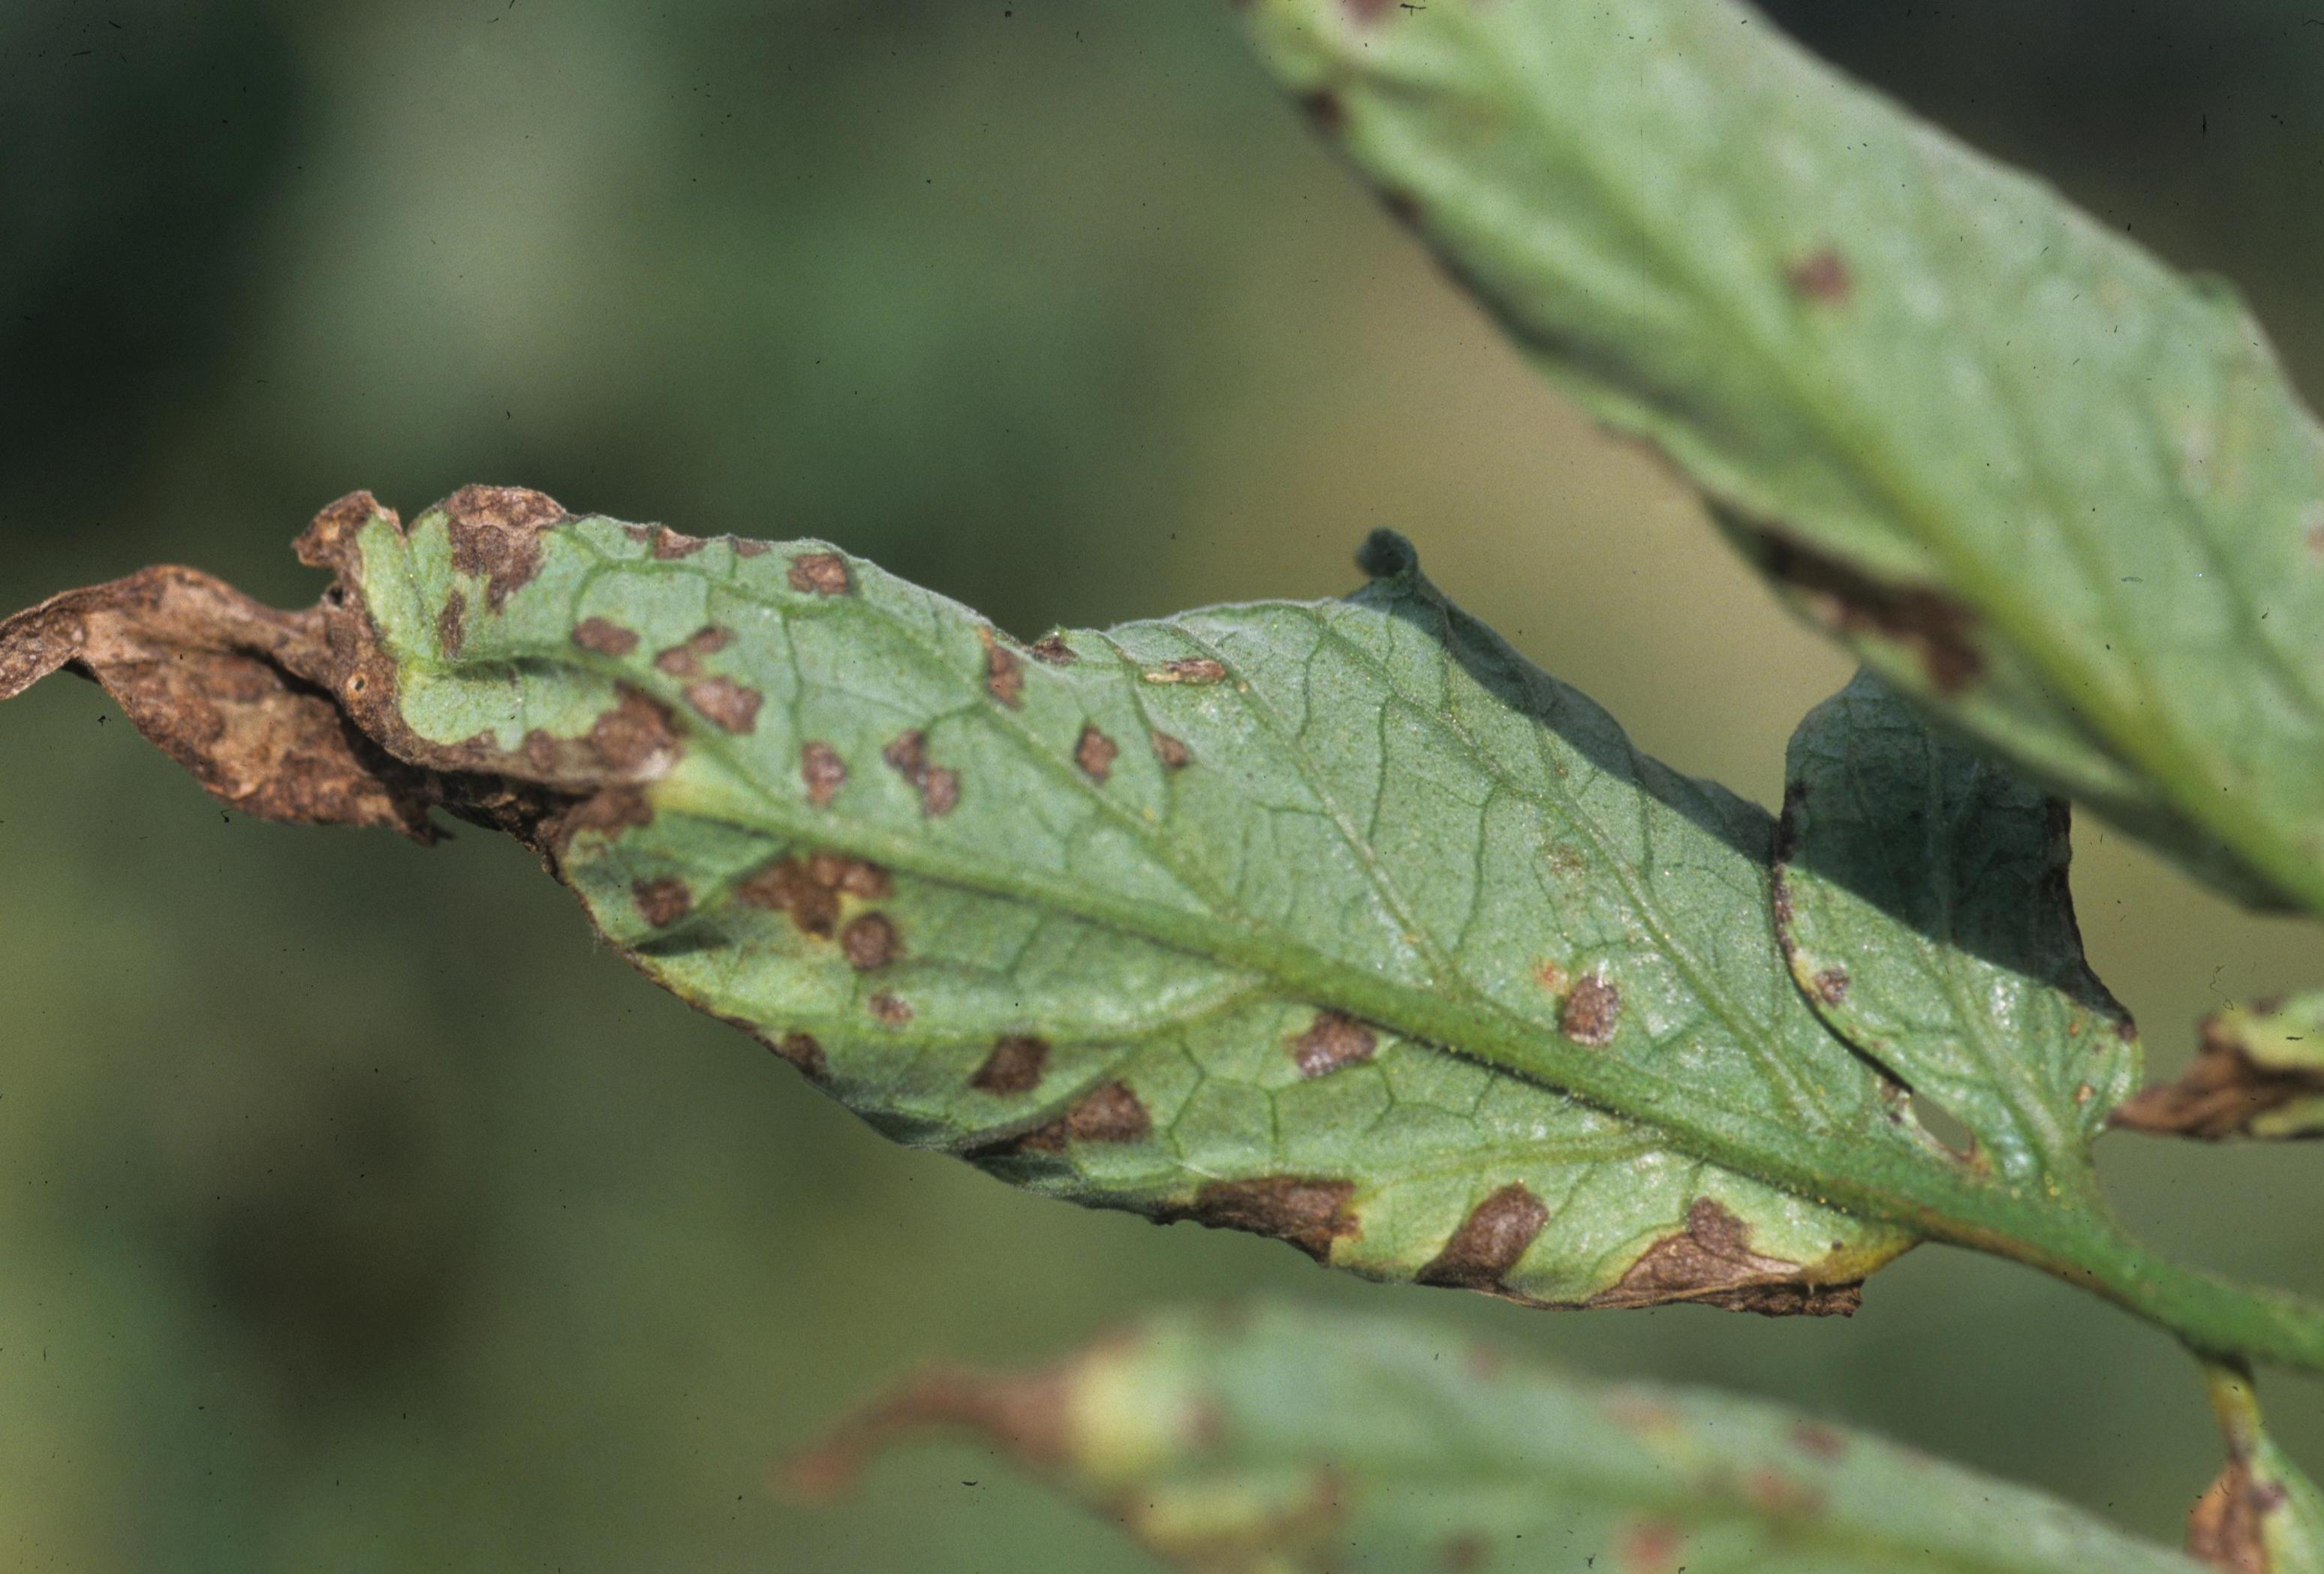Tomato leaf bacterial spot: (28, 451, 2133, 1397)
